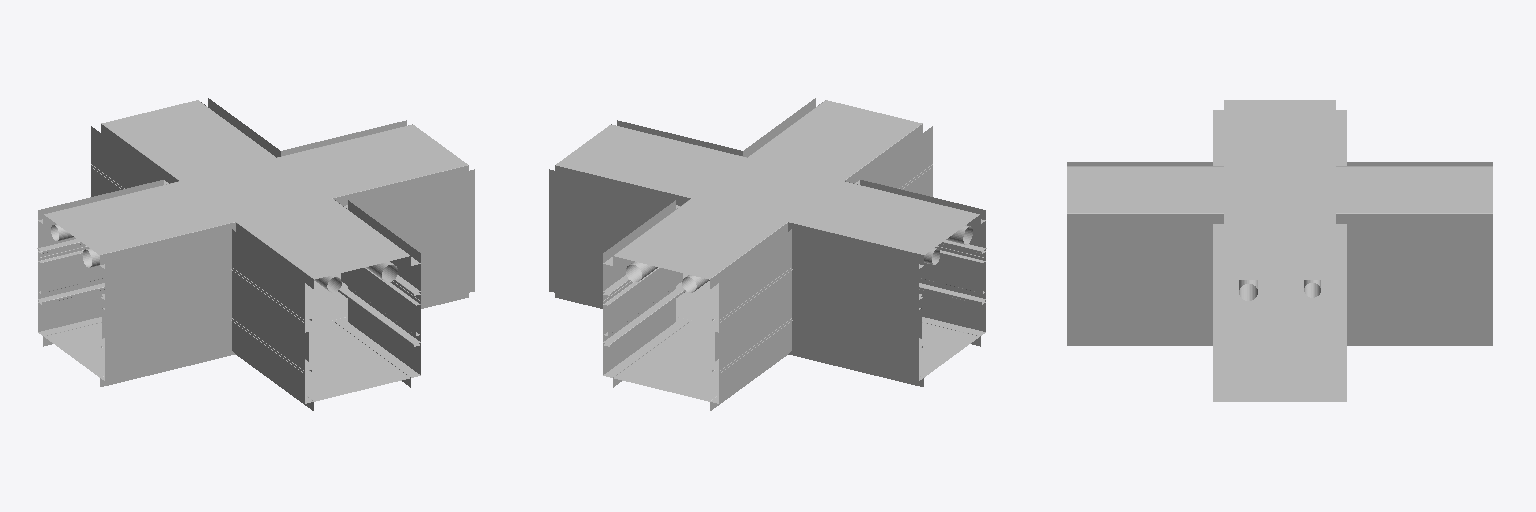
The model's file is Pluscorner.obj.
3 views of the same model, side by side, from view 1: azimuth 30°, elevation 25°; view 2: azimuth 150°, elevation 25°; view 3: azimuth 270°, elevation 25° (orthographic).
Parts seen in each view (by area): view 1: Cube.136_Cube.078, Cube.021_Cube.115, Cube.105_Cube.058, Cube.213_Cube.128, Cube.149_Cube.083, Cube.128_Cube.066, Cube.152_Cube.086; view 2: Cube.136_Cube.078, Cube.021_Cube.115, Cube.105_Cube.058, Cube.213_Cube.128, Cube.149_Cube.083, Cube.128_Cube.066, Cube.152_Cube.086; view 3: Cube.136_Cube.078, Cube.021_Cube.115, Cube.105_Cube.058, Cube.149_Cube.083, Cube.128_Cube.066, Cube.152_Cube.086.
Part boxes in pixels (x1,y1,x2,y2): Cube.136_Cube.078: (38, 98, 474, 403); Cube.021_Cube.115: (44, 100, 467, 279); Cube.105_Cube.058: (44, 273, 409, 401); Cube.213_Cube.128: (38, 246, 420, 362); Cube.149_Cube.083: (38, 102, 468, 291); Cube.128_Cube.066: (38, 293, 468, 410); Cube.152_Cube.086: (37, 164, 420, 372); Cube.136_Cube.078: (549, 98, 985, 403); Cube.021_Cube.115: (556, 100, 979, 279); Cube.105_Cube.058: (614, 273, 979, 401); Cube.213_Cube.128: (603, 246, 985, 362); Cube.149_Cube.083: (555, 102, 985, 291); Cube.128_Cube.066: (555, 293, 985, 410); Cube.152_Cube.086: (603, 164, 986, 372); Cube.136_Cube.078: (1067, 162, 1492, 340); Cube.021_Cube.115: (1067, 100, 1492, 279); Cube.105_Cube.058: (1221, 280, 1338, 401); Cube.149_Cube.083: (1067, 110, 1492, 289); Cube.128_Cube.066: (1067, 336, 1492, 401); Cube.152_Cube.086: (1213, 290, 1346, 371).
Bounding box in the file's own units: 38.05 × 13 × 38.